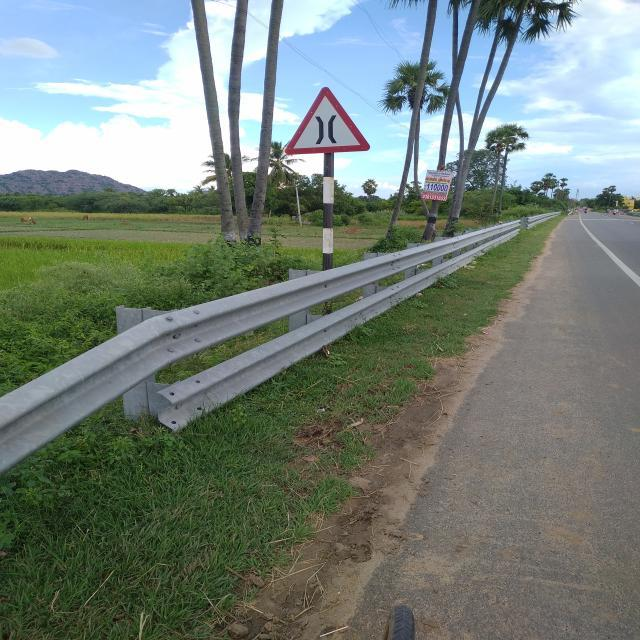narrow bridge ahead: (286, 85, 371, 155)
